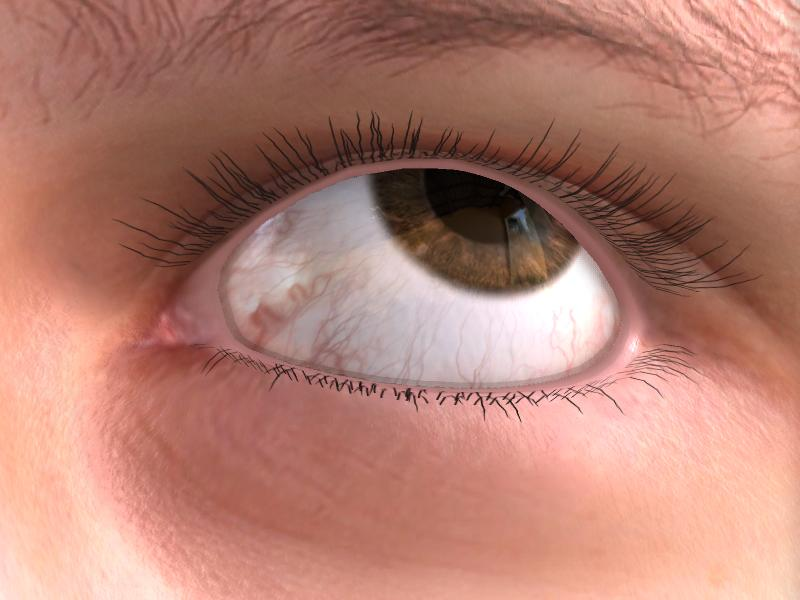eye: (365, 163, 579, 298)
